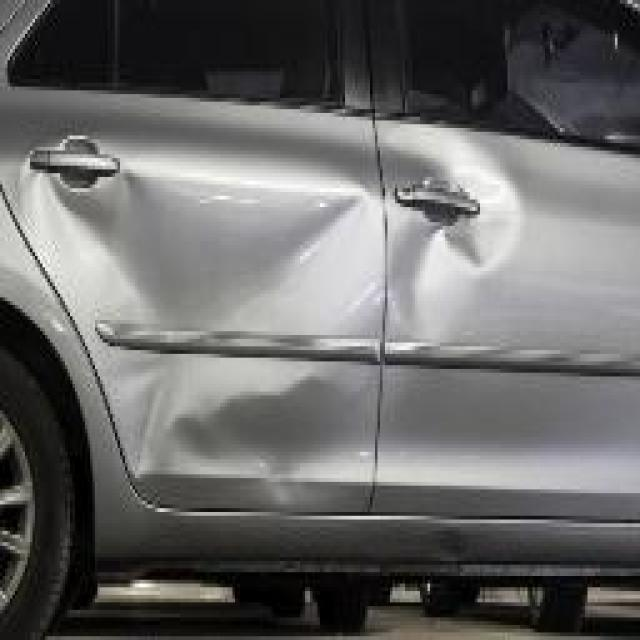Door: (48, 109, 375, 501), (425, 154, 582, 286)
